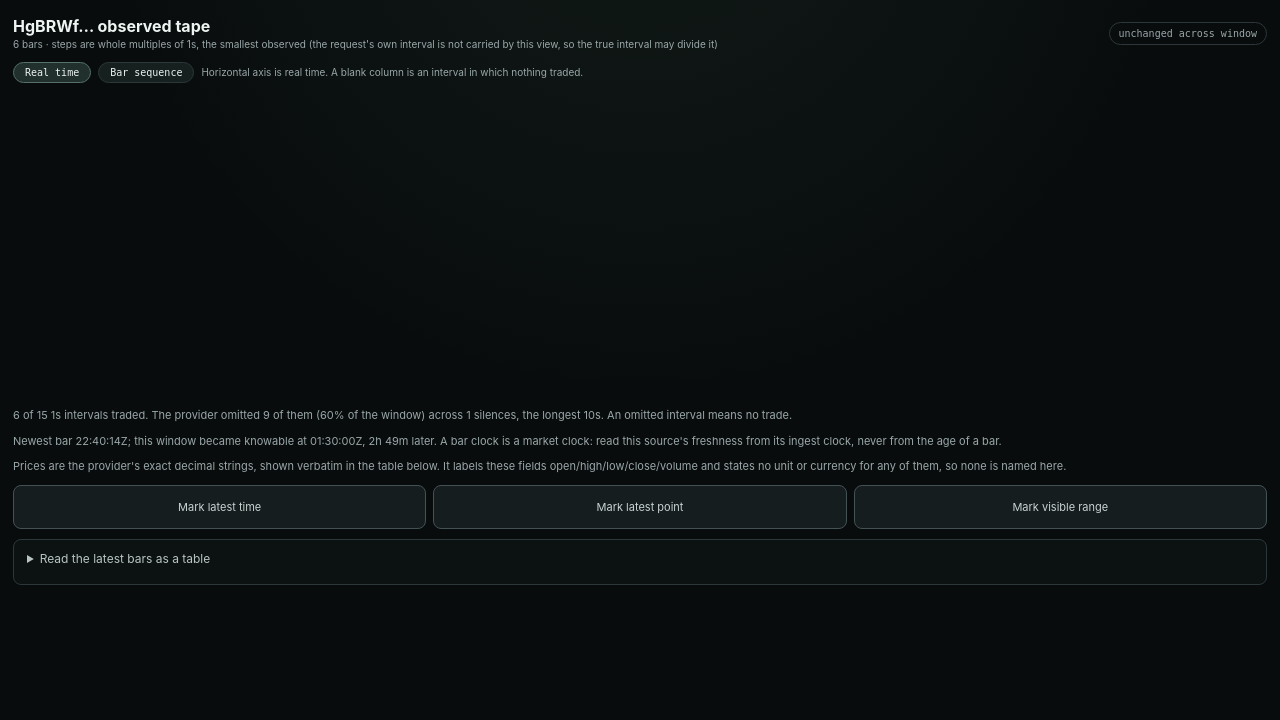
MarketChart › pays for packed bars with an explicit silence strip and a marker on every gap
Step 1. Click the button "Bar sequence" → (146, 72), box top-left (98, 62), bottom-right (194, 83)
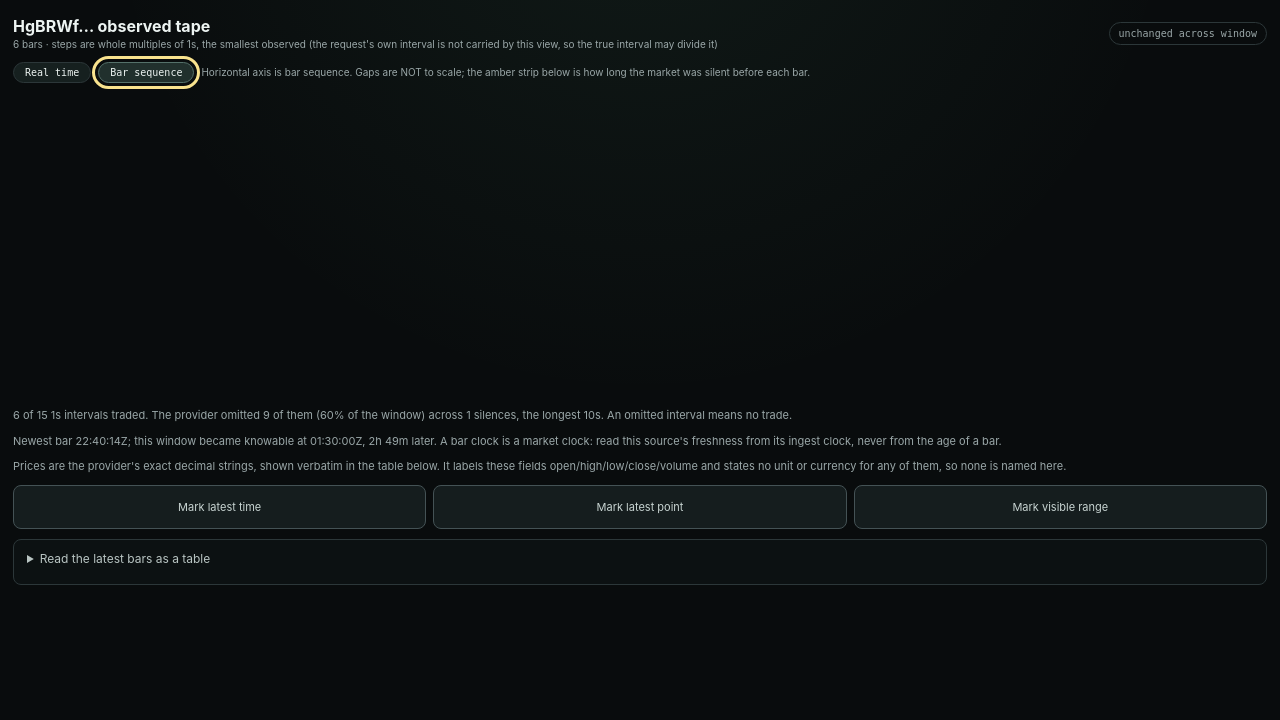
Now the text with test id "chart-mode-note" shows "Gaps are NOT to scale", box top-left (201, 66), bottom-right (810, 78)
